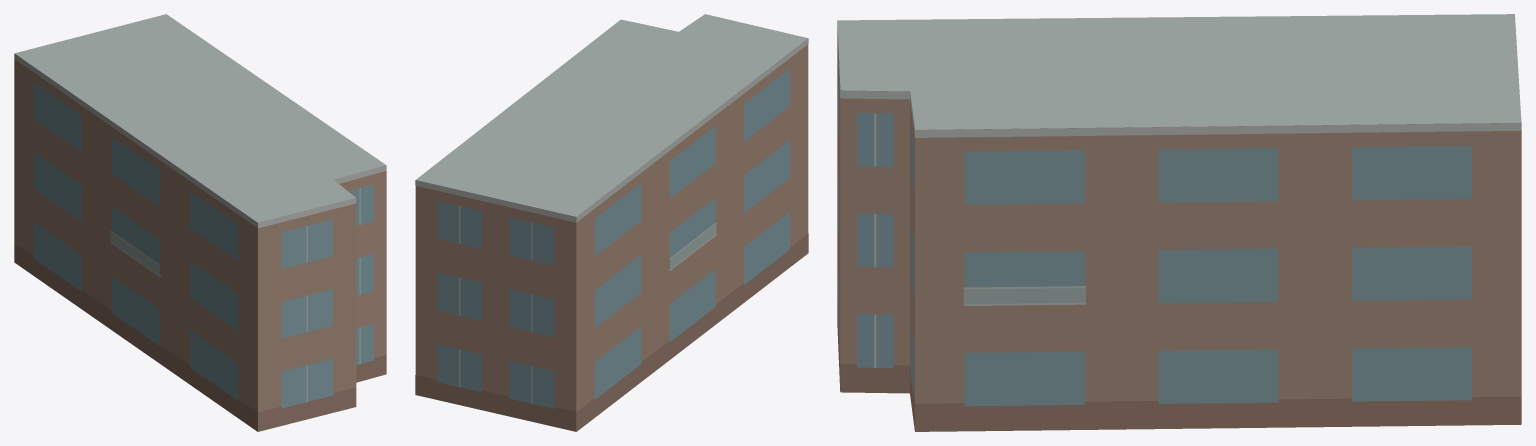
File: survey-upis-32719489.glb
3 renders of one model, left to right at view 1: azimuth 30°, elevation 25°; view 2: azimuth 150°, elevation 25°; view 3: azimuth 270°, elevation 25°, orthographic. The views are drawn at different scales.
Visible parts, largest first — view 1: survey-upis-32719489.tmp; view 2: survey-upis-32719489.tmp; view 3: survey-upis-32719489.tmp.
Boxes of the visible parts, bbox=[...] form: survey-upis-32719489.tmp: bbox=[14, 14, 386, 431]; survey-upis-32719489.tmp: bbox=[415, 14, 808, 431]; survey-upis-32719489.tmp: bbox=[837, 14, 1521, 431].
Size of the model in its own units: 7.54 by 9.15 by 18.8.
